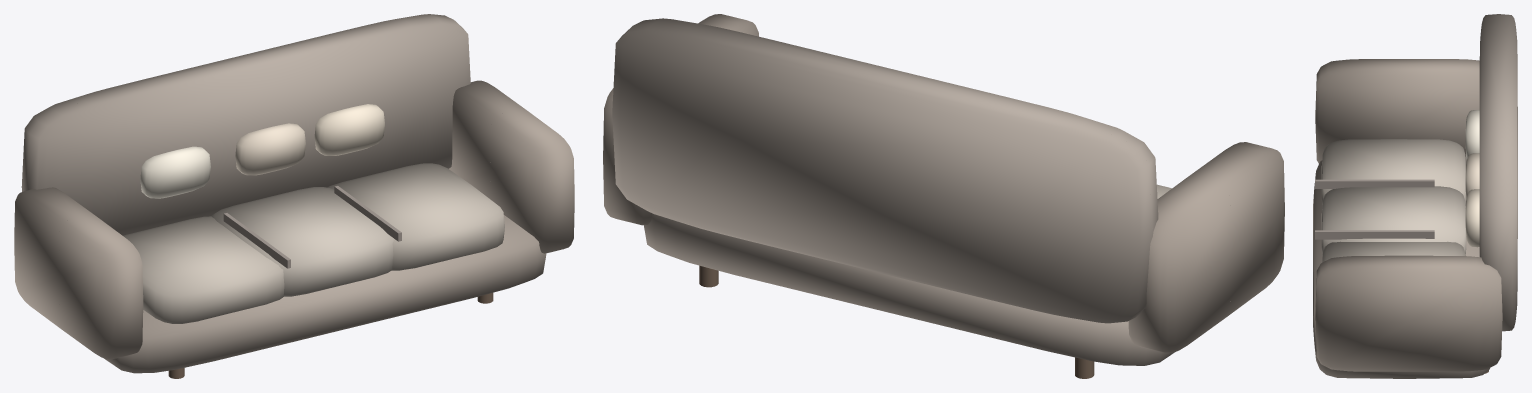
Rendered from sofa_2200x900.glb.
The picture shows the model from 3 angles, left to right: view 1: azimuth 30°, elevation 25°; view 2: azimuth 150°, elevation 25°; view 3: azimuth 270°, elevation 25°; orthographic projection. The views are drawn at different scales.
Visible parts, largest first — view 1: continuous_back_cushion, upholstered_base, left_rounded_arm, right_rounded_arm, single_seat_cushion_l, single_seat_cushion_m, single_seat_cushion_r, soft_throw_pillow (×3), seat_cushion_gap (×2); view 2: continuous_back_cushion, left_rounded_arm, upholstered_base, right_rounded_arm; view 3: right_rounded_arm, left_rounded_arm, continuous_back_cushion, single_seat_cushion_m, single_seat_cushion_l, upholstered_base, seat_cushion_gap (×2), single_seat_cushion_r, soft_throw_pillow (×3).
Boxes of the visible parts, x1=… form: continuous_back_cushion: x1=21, y1=14, x2=470, y2=235; upholstered_base: x1=104, y1=215, x2=546, y2=373; left_rounded_arm: x1=14, y1=187, x2=143, y2=359; right_rounded_arm: x1=449, y1=80, x2=574, y2=253; single_seat_cushion_l: x1=123, y1=216, x2=284, y2=323; single_seat_cushion_m: x1=211, y1=187, x2=393, y2=296; single_seat_cushion_r: x1=327, y1=163, x2=504, y2=270; soft_throw_pillow (×3): x1=140, y1=104, x2=384, y2=198; seat_cushion_gap (×2): x1=223, y1=186, x2=401, y2=268; continuous_back_cushion: x1=612, y1=18, x2=1158, y2=323; left_rounded_arm: x1=1128, y1=142, x2=1284, y2=353; upholstered_base: x1=643, y1=213, x2=1174, y2=365; right_rounded_arm: x1=603, y1=14, x2=758, y2=225; right_rounded_arm: x1=1315, y1=255, x2=1502, y2=371; left_rounded_arm: x1=1315, y1=59, x2=1479, y2=163; continuous_back_cushion: x1=1479, y1=14, x2=1517, y2=331; single_seat_cushion_m: x1=1321, y1=186, x2=1466, y2=255; single_seat_cushion_l: x1=1321, y1=139, x2=1466, y2=205; upholstered_base: x1=1313, y1=157, x2=1489, y2=378; seat_cushion_gap (×2): x1=1315, y1=179, x2=1434, y2=239; single_seat_cushion_r: x1=1322, y1=241, x2=1465, y2=262; soft_throw_pillow (×3): x1=1465, y1=110, x2=1479, y2=247.
Size of the model in its own units: 2.38 by 1.04 by 0.9587.
